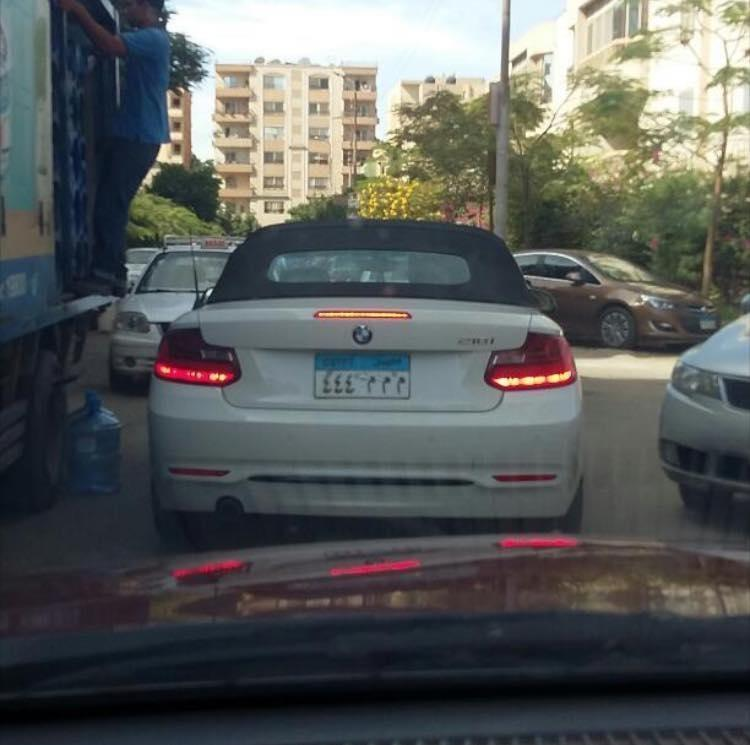4: (334, 372, 346, 395), (321, 372, 333, 395), (344, 374, 356, 395)
License Plate: (311, 349, 412, 401)
Meem: (365, 375, 377, 396), (380, 375, 392, 394), (396, 375, 406, 395)
car: (147, 220, 586, 534), (663, 310, 750, 518), (542, 246, 716, 344), (114, 249, 233, 382)
